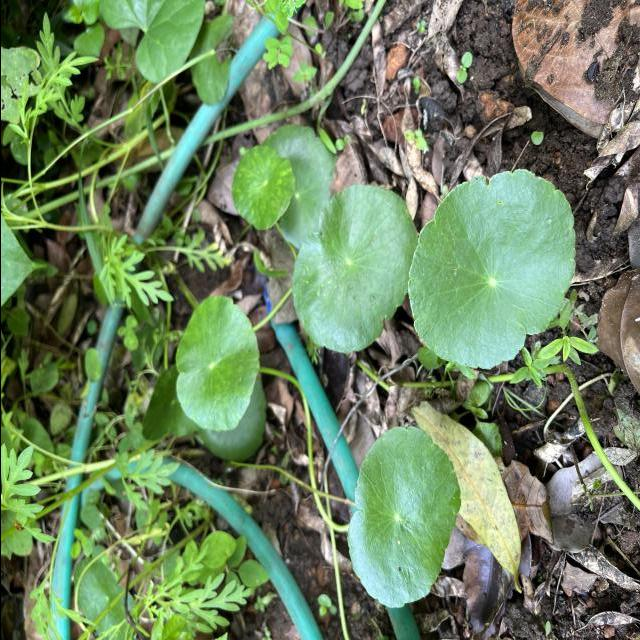Bacopa monnieri: (404, 167, 577, 372), (289, 181, 419, 356), (343, 422, 463, 610), (172, 294, 262, 432), (228, 143, 296, 232)
